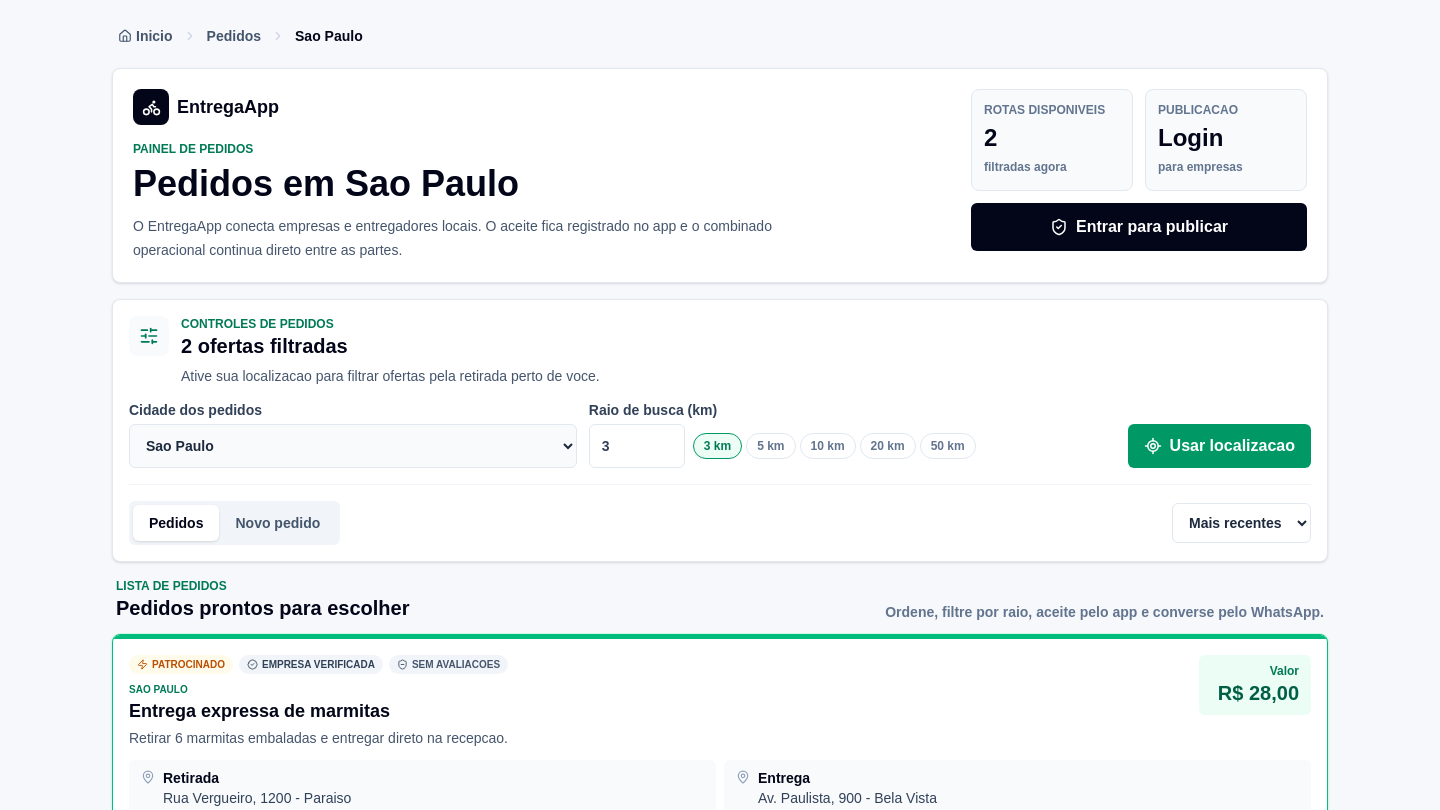
Test case: delivery UI › switches to the new request tab
Expected: the text "Painel de pedidos" is shown, [133, 142, 253, 156]
Expected: the text "Controles de pedidos" is shown, [181, 317, 334, 331]
Click the button "Novo pedido": (278, 523) [220, 505, 336, 541]
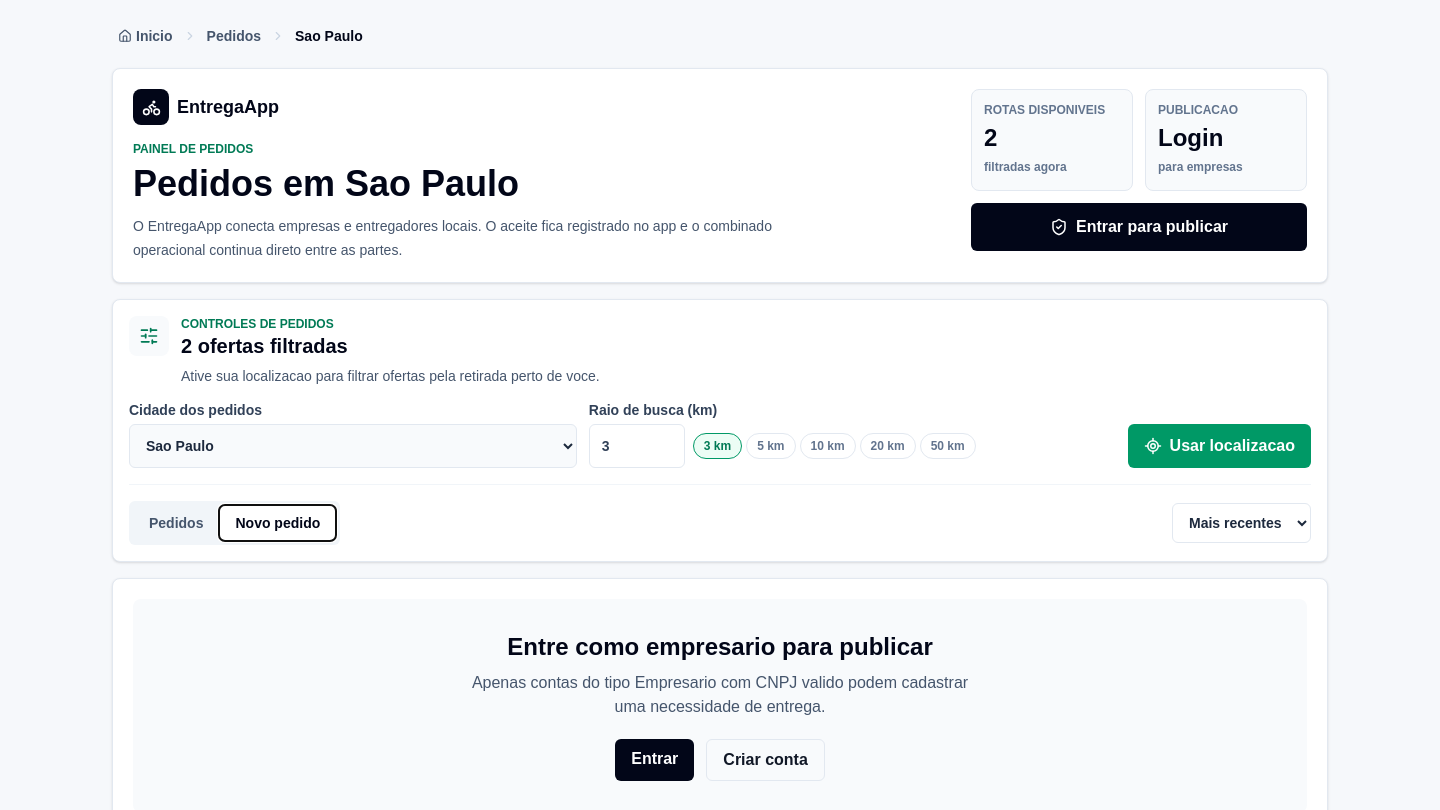
Expected: the heading "Entre como empresario para publicar" is shown, [507, 633, 933, 660]
